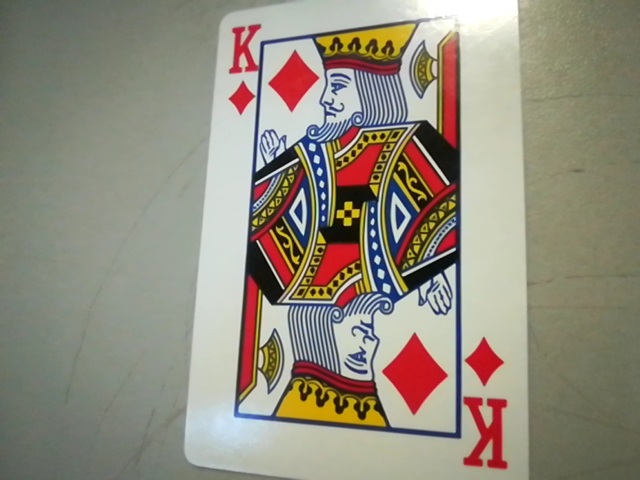fk k: (452, 332, 520, 478)
